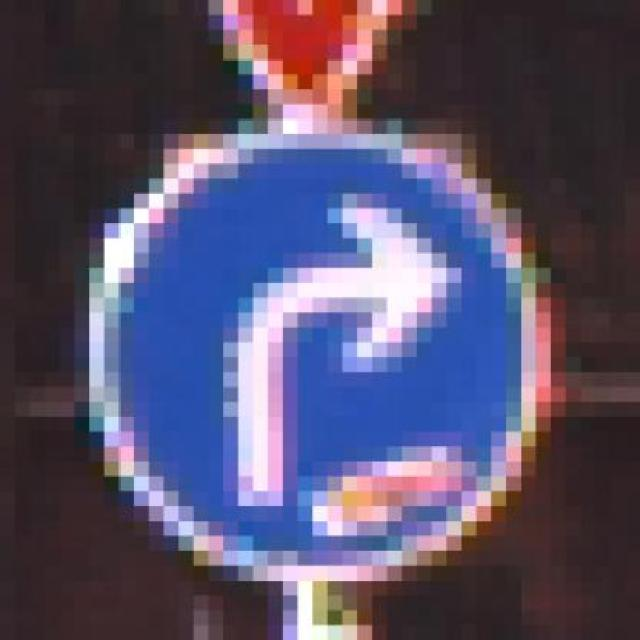Turn right ahead: (75, 74, 550, 595)
